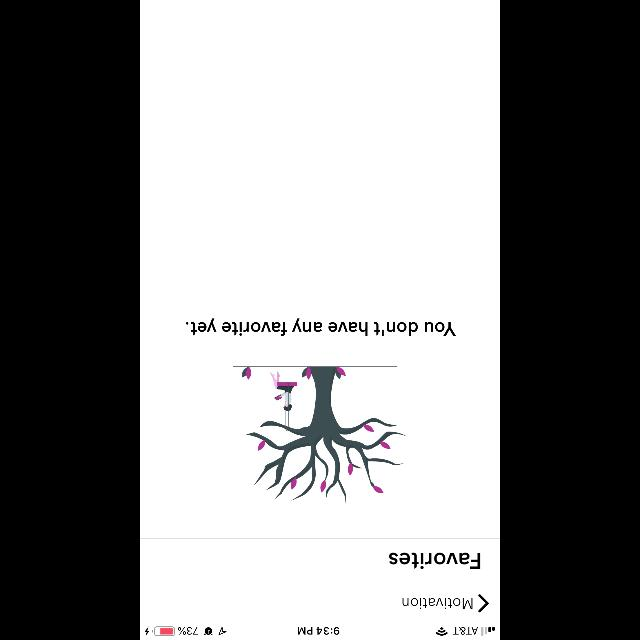icon: (478, 594, 488, 612)
image: (233, 366, 407, 504)
text: (186, 318, 456, 336), (388, 552, 479, 570), (402, 598, 472, 608)
uppertaskbar: (140, 626, 500, 640)
